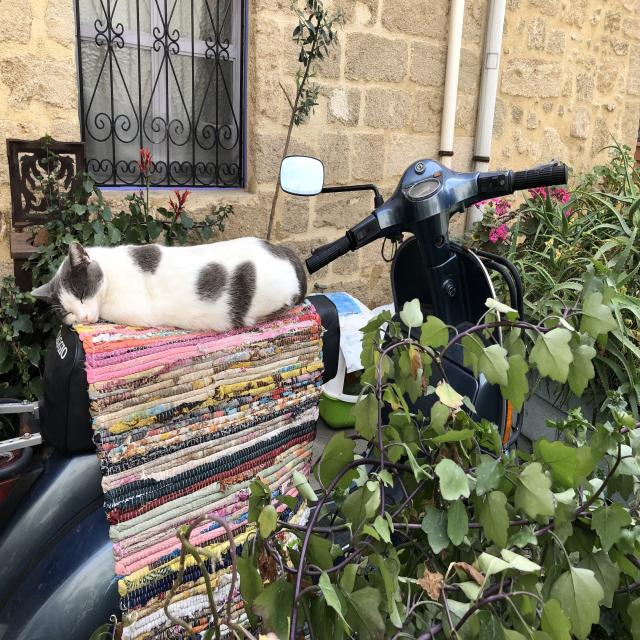cat: (32, 237, 306, 332)
